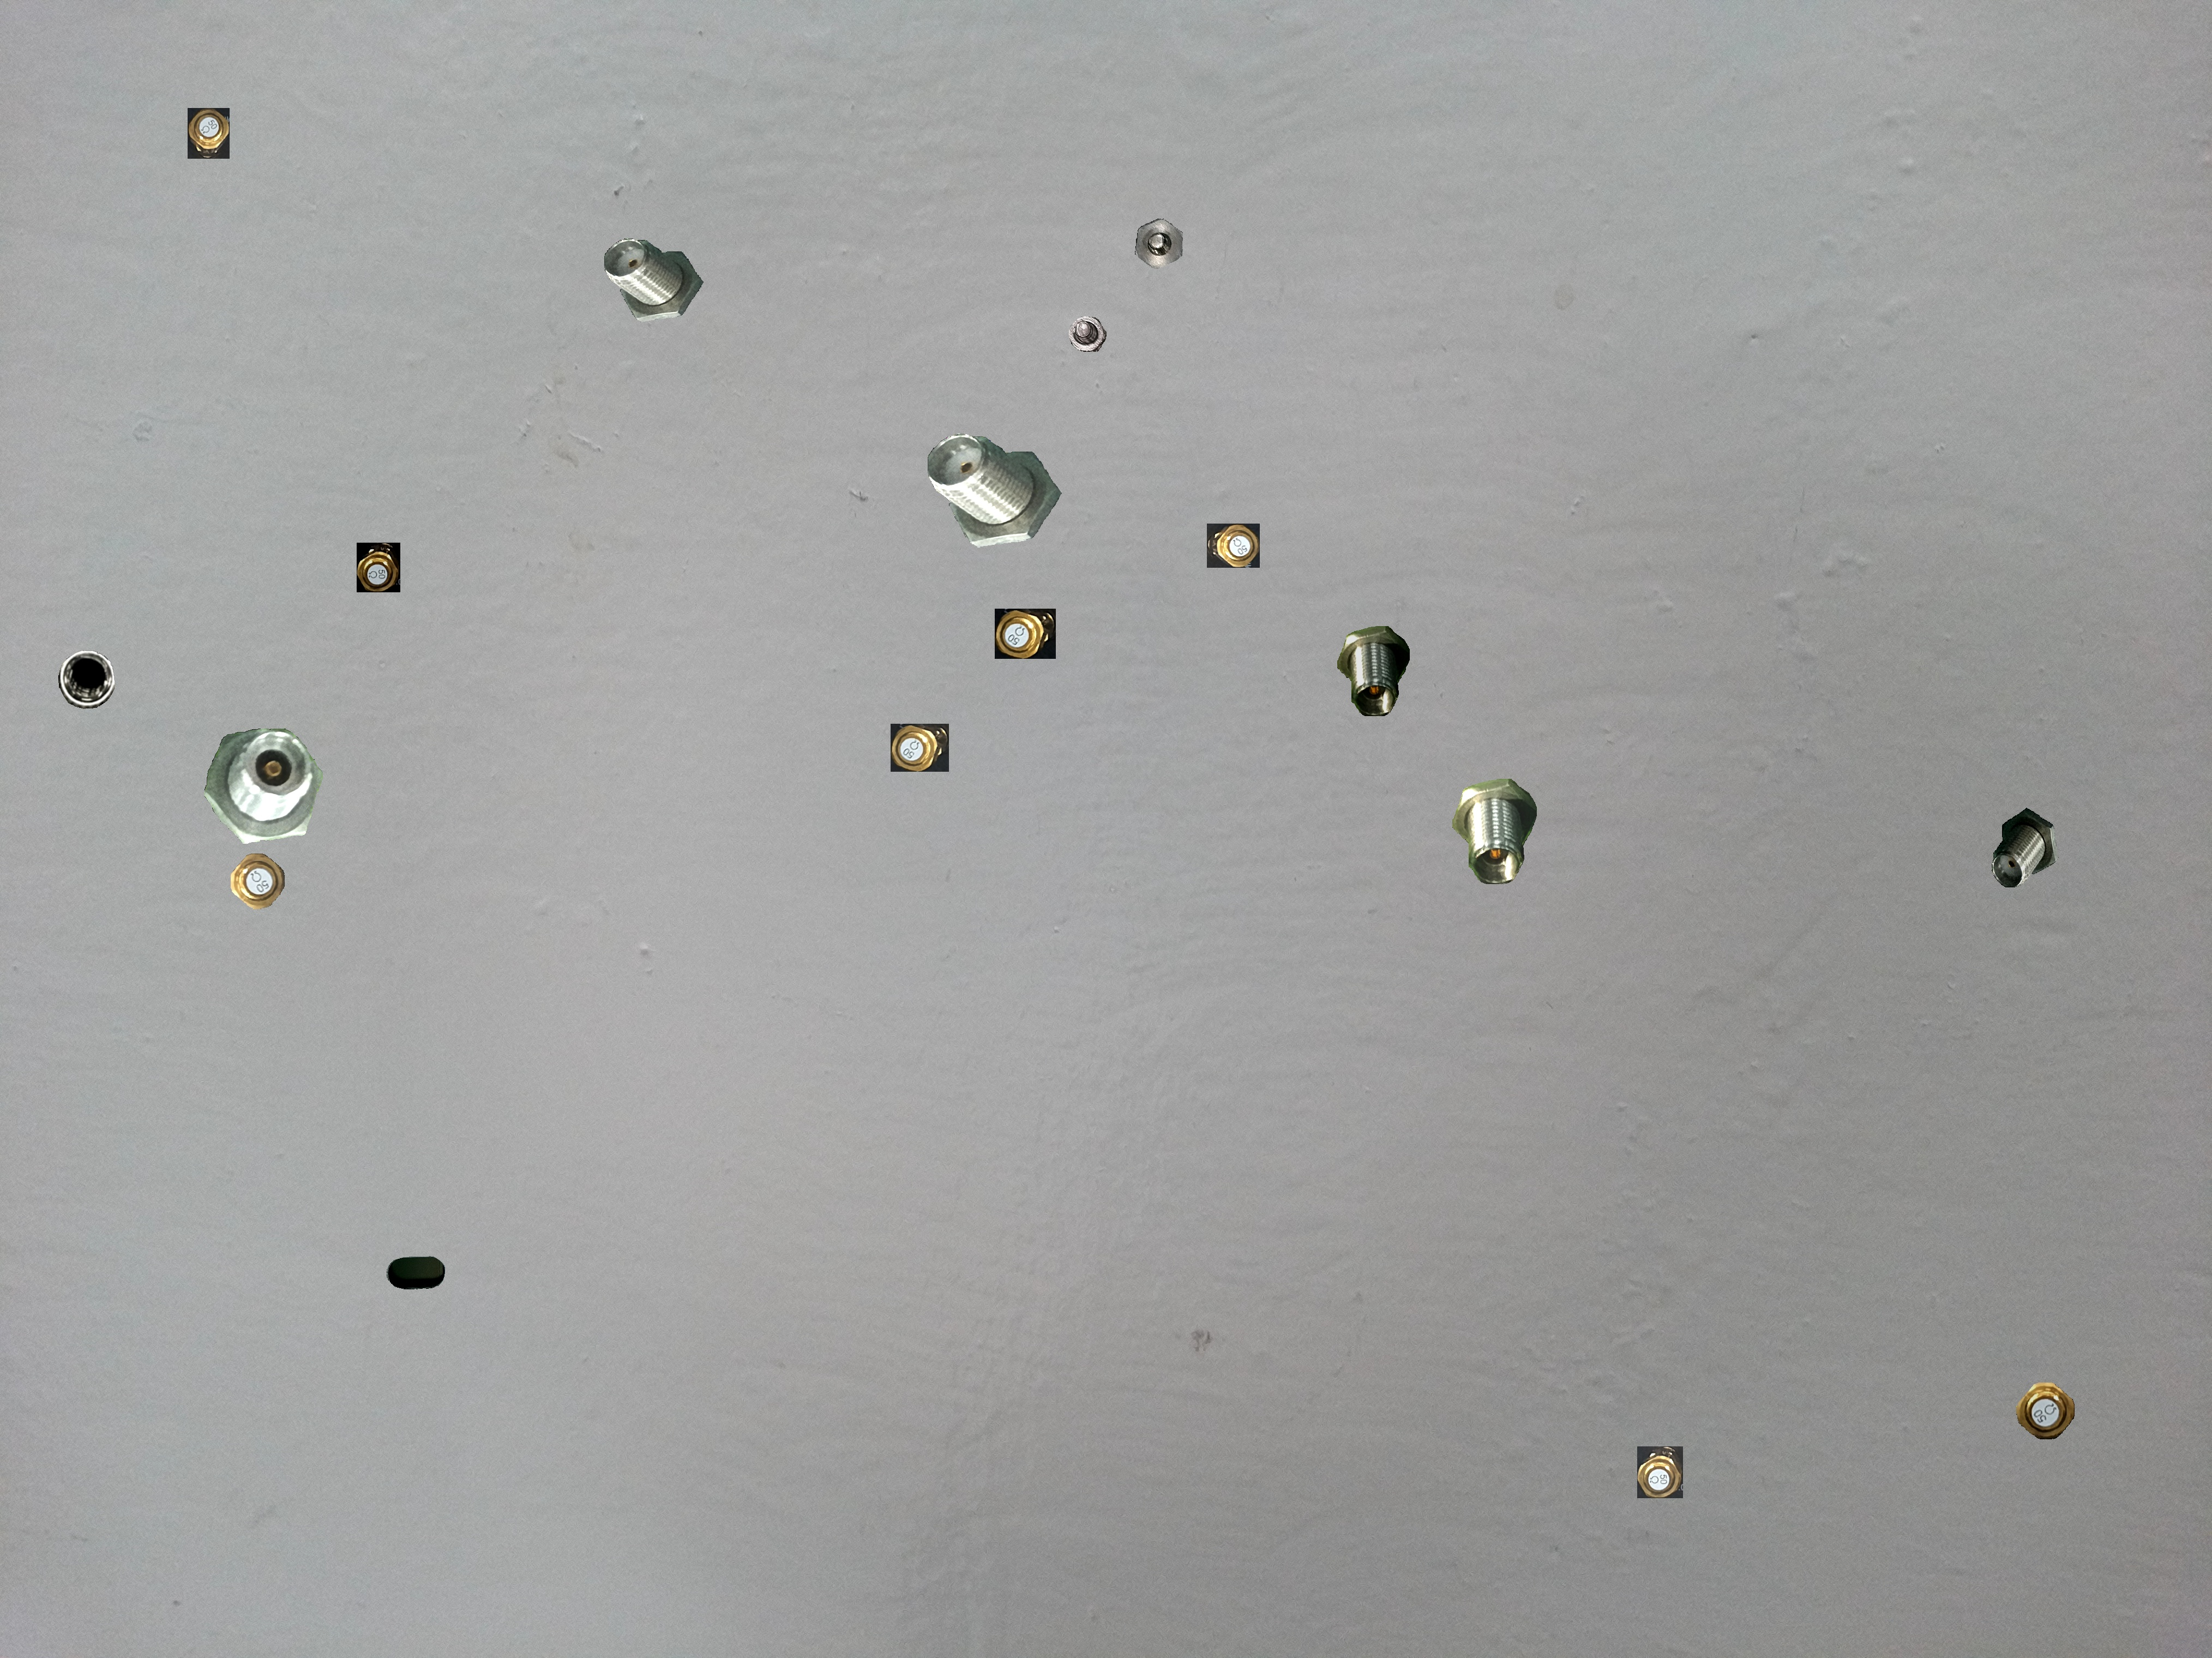Cgoldcap: (2016, 1383, 2074, 1439), (995, 609, 1055, 658), (231, 854, 284, 909), (891, 724, 948, 771), (1637, 1446, 1682, 1498), (1207, 524, 1259, 567), (357, 543, 400, 592), (188, 108, 229, 158)
Cpin_wNut: (928, 434, 1061, 547), (205, 729, 322, 843), (1452, 779, 1536, 884), (604, 238, 703, 322), (1337, 626, 1409, 716), (1992, 808, 2058, 887)
